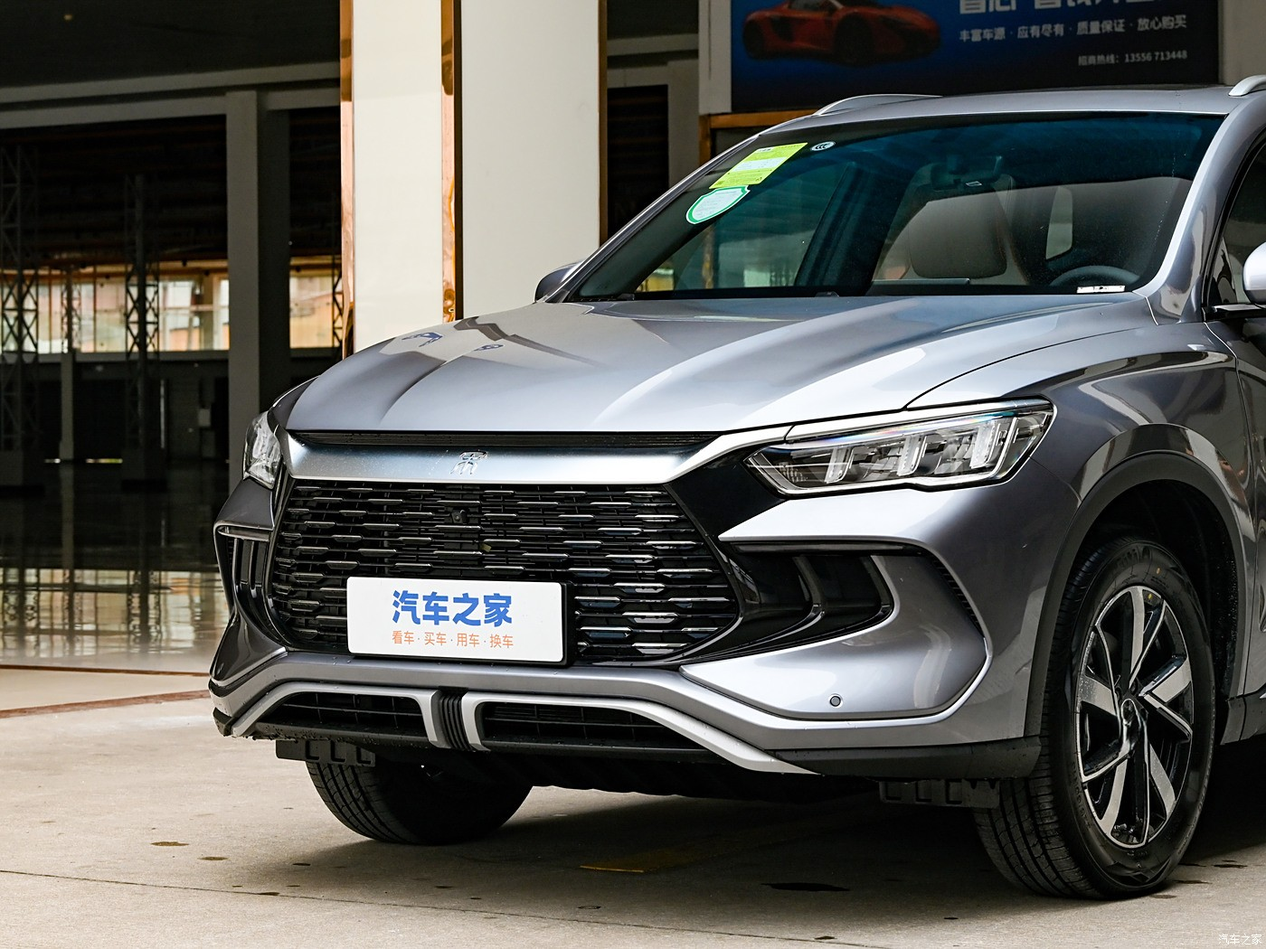BYD Song: (449, 448, 487, 474)
